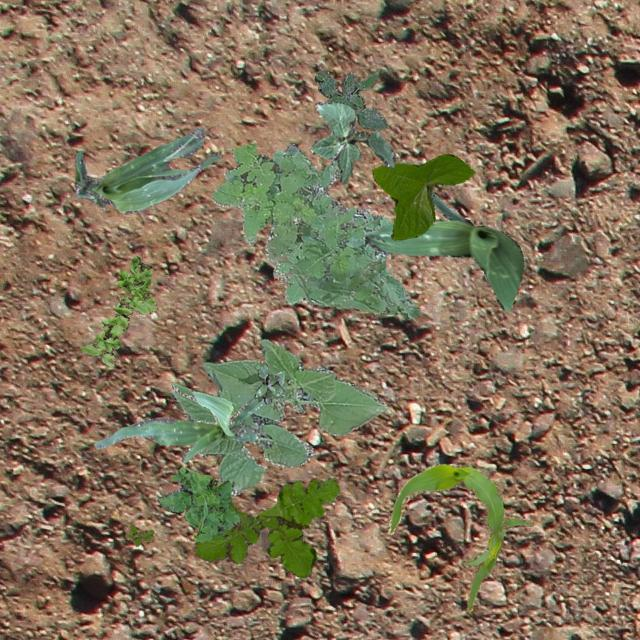crop: (170, 338, 386, 494), (387, 462, 532, 610), (363, 190, 522, 310), (92, 371, 284, 462), (74, 126, 220, 212), (371, 152, 474, 238), (310, 100, 394, 182)
weed: (210, 140, 418, 318), (192, 477, 338, 578), (80, 255, 156, 366), (156, 466, 240, 542), (314, 68, 386, 128), (282, 142, 322, 178), (254, 360, 284, 402), (124, 522, 152, 546)
